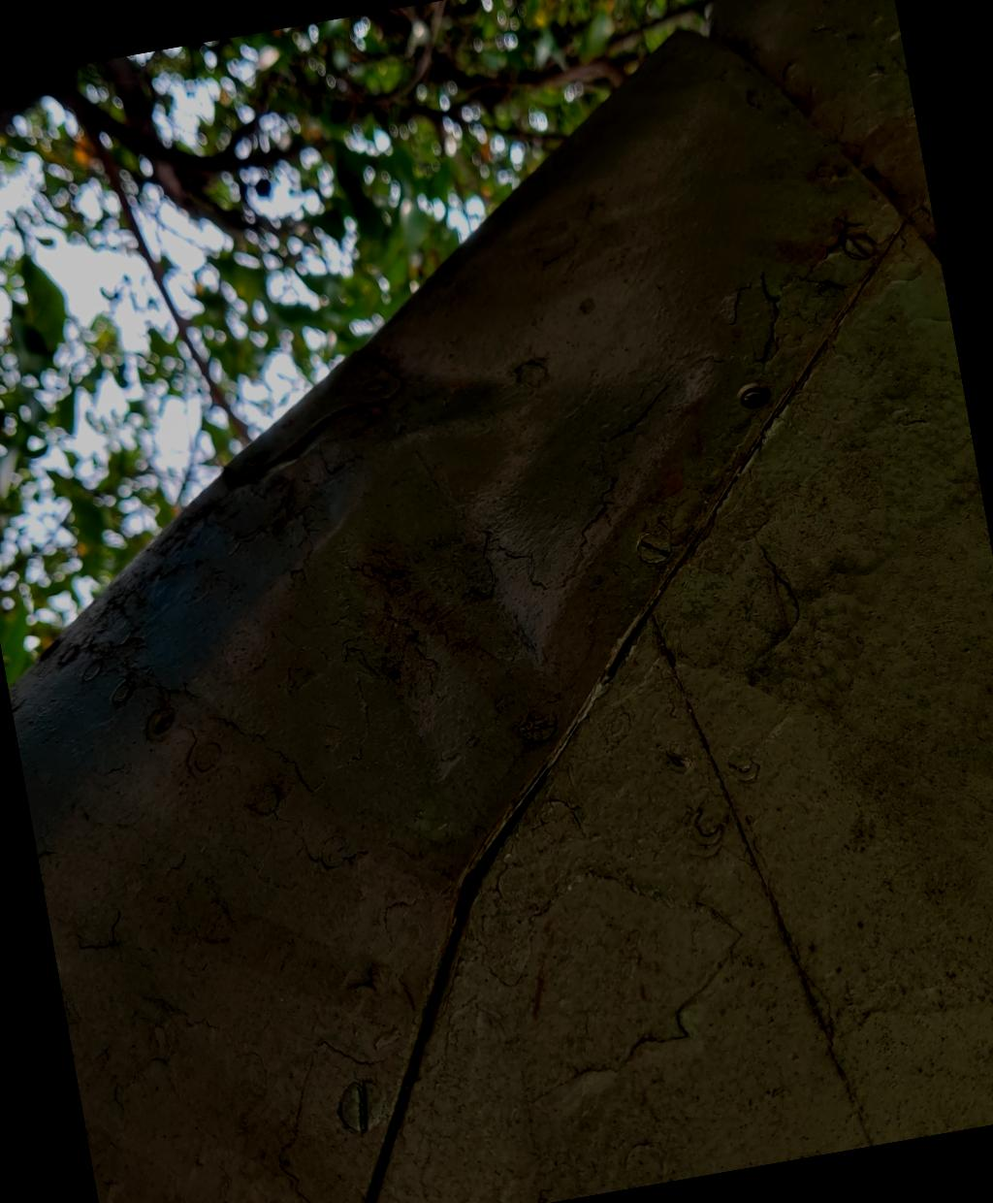dent: (256, 236, 733, 749)
